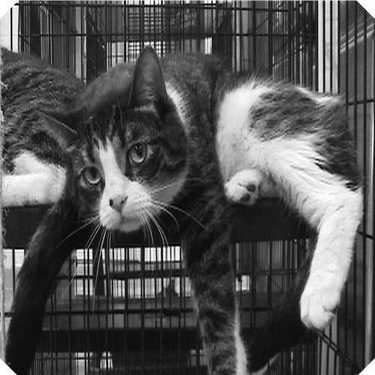cat: (16, 63, 375, 375), (1, 41, 332, 279)
